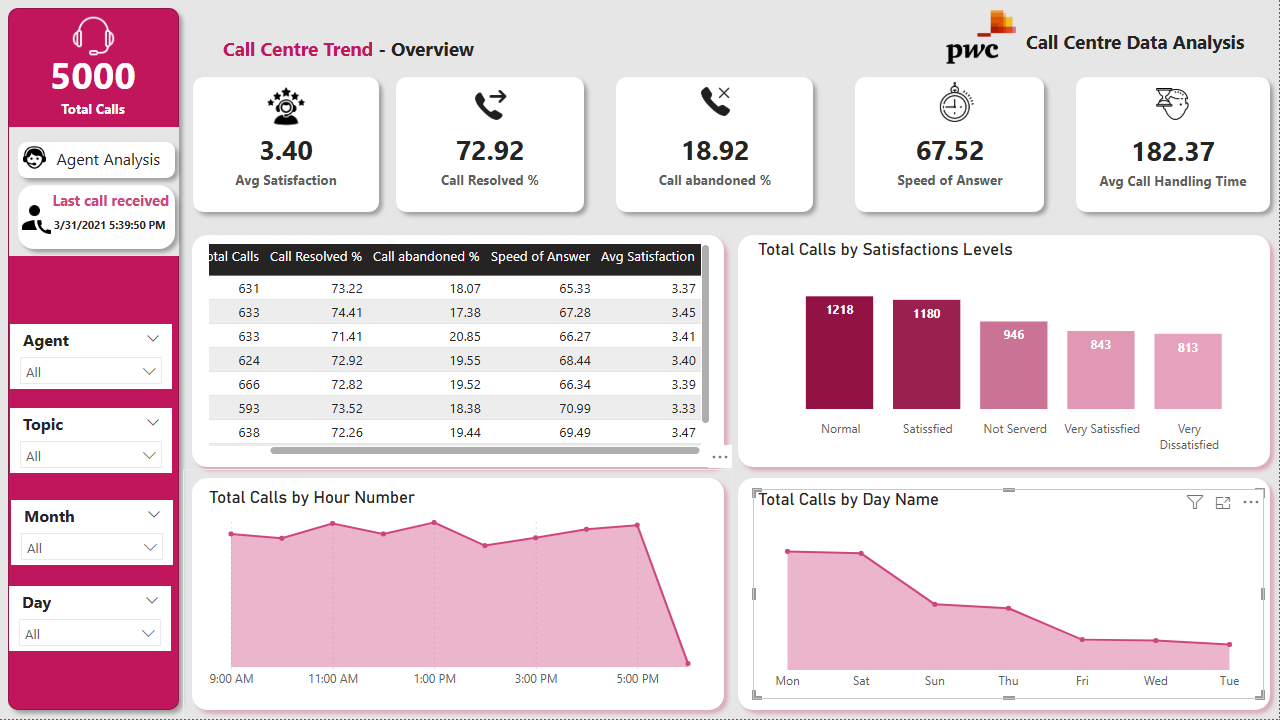

The page's visual inventory and layout, read from the dashboard file:
{"tool":"powerbi","page":{"name":"DashBoard","canvas":[1280,720],"ordinal":0},"visuals":[{"type":"shape","box":[0,0,189,720],"z":0},{"type":"shape","box":[185,69,204,153],"z":1000},{"type":"shape","box":[184,227.1,550,250],"z":2000},{"type":"shape","box":[388,69,206,153],"z":3000},{"type":"shape","box":[608,69,215,153],"z":4000},{"type":"shape","box":[847,69,207,153],"z":5000},{"type":"shape","box":[1068,69,212,153],"z":6000},{"type":"image","box":[942,0,80,76],"z":7000},{"type":"shape","box":[729.7,227.1,550.3,249.6],"z":8000},{"type":"textbox","box":[1022,25,243,44],"z":9000},{"type":"shape","box":[184,470,550,250],"z":10000},{"type":"textbox","box":[219,32,272,44],"z":11000},{"type":"shape","box":[729.7,470.4,550.3,249.6],"z":12000},{"type":"shape","box":[10,128,170,129],"z":13000},{"type":"shape","box":[10,177,175,82],"z":14000},{"type":"shape","box":[10,134,175,54],"z":15000},{"type":"textbox","box":[21,186,154,32],"z":18000},{"type":"image","box":[12.4,196.8,45.8,43.1],"z":19000},{"type":"textbox","box":[10,144,156,34],"z":20000},{"type":"image","title":"Agent","box":[15.8,142,39.3,33.4],"z":21000},{"type":"image","box":[255,80,63,54],"z":22000},{"type":"image","box":[461,82,59,49],"z":23000},{"type":"image","box":[693,81,46,43],"z":24000},{"type":"image","box":[932,78,50,50],"z":25000},{"type":"image","box":[1152,82,43,46],"z":26000},{"type":"image","box":[65,10,59,55],"z":27000},{"type":"tableEx","fields":{"Values":["Calls.agent","Measure _tables.Total Calls","Measure _tables.Call Resolved %","Measure _tables.Call abandoned %","Measure _tables.Speed of Answer","Measure _tables.Avg Satisfaction"]},"box":[204,240,512,221],"z":29000},{"type":"card","fields":{"Values":["Measure _tables.Avg Satisfaction"]},"box":[222,115,130,91],"z":29001},{"type":"card","fields":{"Values":["Measure _tables.Call Resolved %"]},"box":[426,115,130,91],"z":29002},{"type":"card","fields":{"Values":["Measure _tables.Call abandoned %"]},"box":[651,115,130,91],"z":29003},{"type":"card","fields":{"Values":["Measure _tables.Speed of Answer"]},"box":[886,115,130,91],"z":29004},{"type":"card","fields":{"Values":["Measure _tables.Avg Call Handling Time"]},"box":[1094,111,160,100],"z":29005},{"type":"lineChart","fields":{"Category":["Calls.Hour Number"],"Y":["Measure _tables.Total Calls"]},"box":[205,488,511,210],"z":29006},{"type":"lineChart","fields":{"Category":["Calls.Day Name"],"Y":["Measure _tables.Total Calls"]},"box":[754,490,511,210],"z":29007},{"type":"clusteredColumnChart","fields":{"Category":["Calls.Satisfactions Levels"],"Y":["Measure _tables.Total Calls"]},"box":[754,240,511,221],"z":29008},{"type":"card","fields":{"Values":["Measure _tables.Last Call Received"]},"box":[45,206,131,46],"z":29009},{"type":"slicer","fields":{"Values":["Calls.agent"]},"box":[11,325,162,65],"z":29010},{"type":"slicer","fields":{"Values":["Calls.topic"]},"box":[11,409,162,65],"z":29011},{"type":"card","fields":{"Values":["Measure _tables.Total Calls"]},"box":[29,38,130,91],"z":29012},{"type":"slicer","fields":{"Values":["Calls.date.Variation.Date Hierarchy.Month"]},"box":[12,501,162,65],"z":29013},{"type":"slicer","fields":{"Values":["Calls.date.Variation.Date Hierarchy.Day"]},"box":[10,587,162,65],"z":29014}]}

Visuals, with their boxes in screenshot pixels (x1, y1, x2, y2), scaled from the page's 1280x720 canvas onto the 1280x720 screenshot:
shape: (left=0, top=0, right=189, bottom=719)
shape: (left=185, top=69, right=389, bottom=222)
shape: (left=184, top=227, right=734, bottom=477)
shape: (left=388, top=69, right=594, bottom=222)
shape: (left=608, top=69, right=823, bottom=222)
shape: (left=847, top=69, right=1054, bottom=222)
shape: (left=1068, top=69, right=1279, bottom=222)
image: (left=942, top=0, right=1022, bottom=76)
shape: (left=730, top=227, right=1279, bottom=477)
textbox: (left=1022, top=25, right=1265, bottom=69)
shape: (left=184, top=470, right=734, bottom=719)
textbox: (left=219, top=32, right=491, bottom=76)
shape: (left=730, top=470, right=1279, bottom=719)
shape: (left=10, top=128, right=180, bottom=257)
shape: (left=10, top=177, right=185, bottom=259)
shape: (left=10, top=134, right=185, bottom=188)
textbox: (left=21, top=186, right=175, bottom=218)
image: (left=12, top=197, right=58, bottom=240)
textbox: (left=10, top=144, right=166, bottom=178)
"Agent" image: (left=16, top=142, right=55, bottom=175)
image: (left=255, top=80, right=318, bottom=134)
image: (left=461, top=82, right=520, bottom=131)
image: (left=693, top=81, right=739, bottom=124)
image: (left=932, top=78, right=982, bottom=128)
image: (left=1152, top=82, right=1195, bottom=128)
image: (left=65, top=10, right=124, bottom=65)
tableEx - Calls.agent x Measure _tables.Total Calls: (left=204, top=240, right=716, bottom=461)
card - Measure _tables.Avg Satisfaction: (left=222, top=115, right=352, bottom=206)
card - Measure _tables.Call Resolved %: (left=426, top=115, right=556, bottom=206)
card - Measure _tables.Call abandoned %: (left=651, top=115, right=781, bottom=206)
card - Measure _tables.Speed of Answer: (left=886, top=115, right=1016, bottom=206)
card - Measure _tables.Avg Call Handling Time: (left=1094, top=111, right=1254, bottom=211)
lineChart - Calls.Hour Number x Measure _tables.Total Calls: (left=205, top=488, right=716, bottom=698)
lineChart - Calls.Day Name x Measure _tables.Total Calls: (left=754, top=490, right=1265, bottom=700)
clusteredColumnChart - Calls.Satisfactions Levels x Measure _tables.Total Calls: (left=754, top=240, right=1265, bottom=461)
card - Measure _tables.Last Call Received: (left=45, top=206, right=176, bottom=252)
slicer - Calls.agent: (left=11, top=325, right=173, bottom=390)
slicer - Calls.topic: (left=11, top=409, right=173, bottom=474)
card - Measure _tables.Total Calls: (left=29, top=38, right=159, bottom=129)
slicer - Calls.date.Variation.Date Hierarchy.Month: (left=12, top=501, right=174, bottom=566)
slicer - Calls.date.Variation.Date Hierarchy.Day: (left=10, top=587, right=172, bottom=652)
